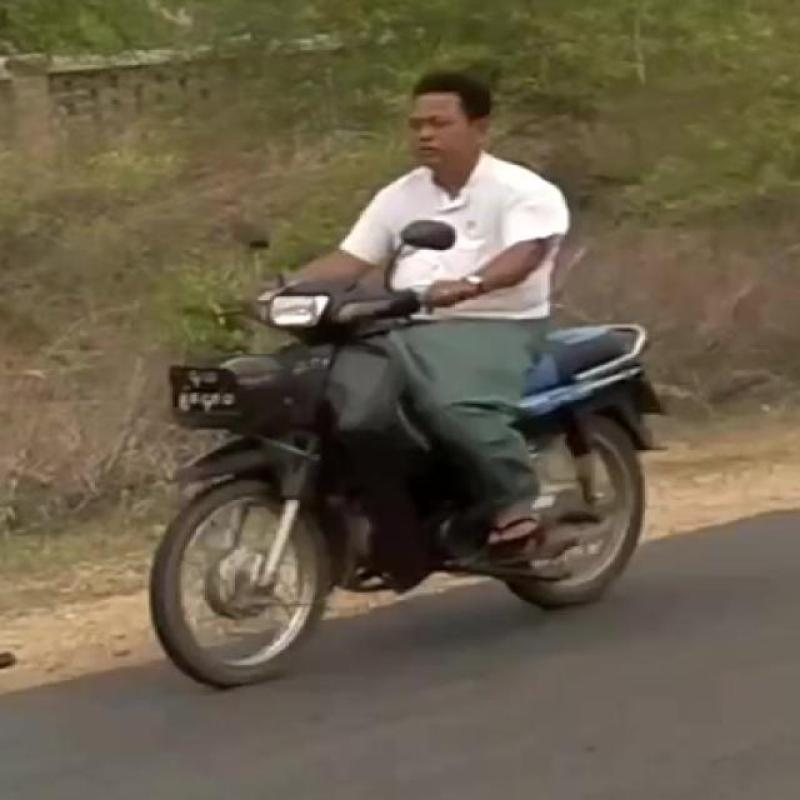nohelmet: (361, 56, 504, 182)
